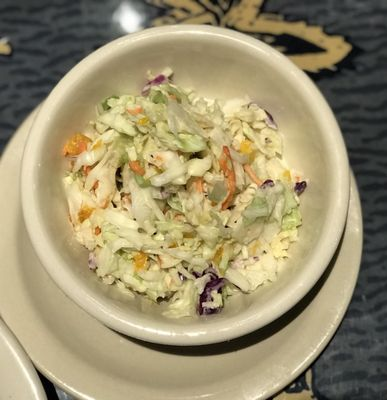sushi: (15, 23, 353, 369)
